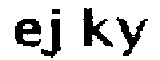e: (12, 16, 42, 50)
j: (40, 7, 63, 60)
k: (79, 6, 113, 51)
y: (116, 12, 149, 60)
